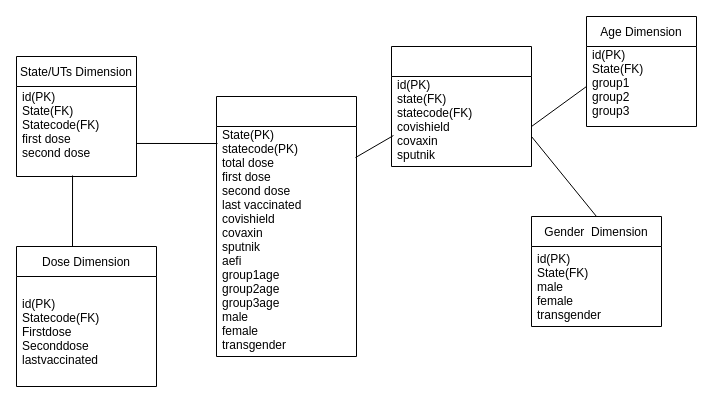
Image size: 713x403. Some labels were removed from this diagram. The shapes that lost their labels are listed below. From the top down, each one's box as (x1, y1, x2, y2) in pixels, then its label:
(390, 46, 532, 166): VaxBrand Dimension
(216, 96, 356, 356): Vaccination Fact
